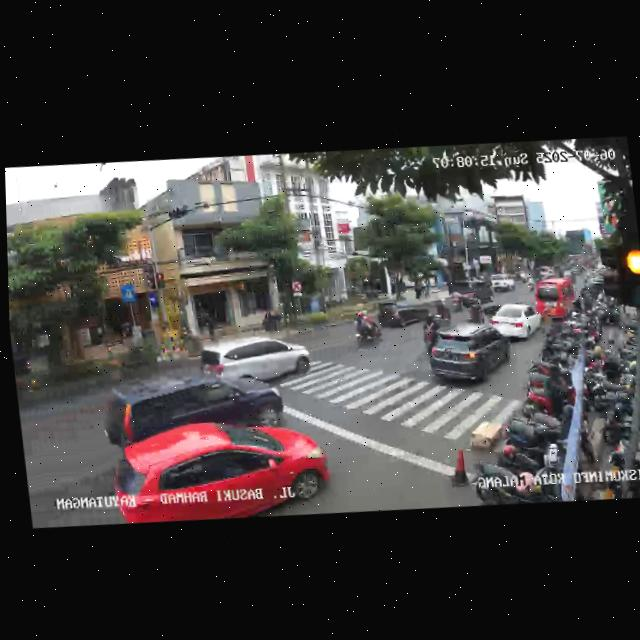car: (106, 405, 335, 531), (98, 362, 287, 457), (195, 325, 315, 392), (423, 320, 514, 392), (485, 299, 544, 346), (378, 295, 444, 334), (533, 274, 578, 323), (460, 277, 496, 308), (488, 271, 516, 293)
motorcycle: (350, 307, 382, 350), (417, 312, 442, 354), (436, 297, 452, 323)
